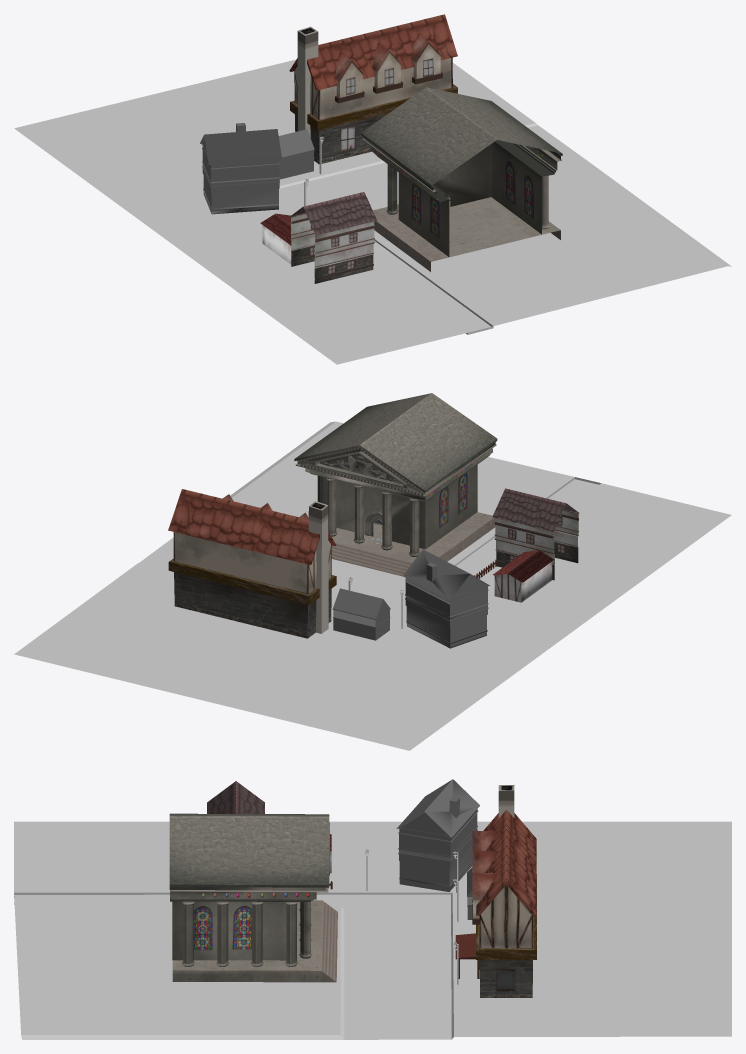
Rendered from Game Battle Background02.FBX.
3 views of the same model, one above another, from view 1: azimuth 30°, elevation 25°; view 2: azimuth 150°, elevation 25°; view 3: azimuth 270°, elevation 25° (orthographic). The views are drawn at different scales.
Parts seen in each view (by area): view 1: the_town_1:polySurface091, the_town_1:pasted__polySurface185, Box005, Church, the_town_1:pasted__pCube114, House4, House01, Box006, the_town_1:pasted__pCube115, the_town_1:polySurface090; view 2: the_town_1:polySurface091, the_town_1:pasted__polySurface185, Box005, Church, the_town_1:pasted__pCube114, House4, the_town_1:pasted__pCube115, the_town_1:polySurface090, Box006; view 3: the_town_1:polySurface091, the_town_1:pasted__polySurface185, Box005, Church, the_town_1:pasted__pCube114, House01, House4, Box006.
Boxes of the visible parts, left/top/right/bottom form: the_town_1:polySurface091: left=14, top=59, right=731, bottom=364; the_town_1:pasted__polySurface185: left=361, top=87, right=562, bottom=256; Box005: left=289, top=14, right=457, bottom=164; Church: left=364, top=138, right=560, bottom=271; the_town_1:pasted__pCube114: left=200, top=123, right=281, bottom=214; House4: left=290, top=192, right=376, bottom=283; House01: left=334, top=33, right=442, bottom=103; Box006: left=297, top=26, right=318, bottom=137; the_town_1:pasted__pCube115: left=278, top=129, right=314, bottom=179; the_town_1:polySurface090: left=260, top=213, right=291, bottom=264; the_town_1:polySurface091: left=14, top=421, right=731, bottom=750; the_town_1:pasted__polySurface185: left=294, top=393, right=497, bottom=549; Box005: left=168, top=489, right=336, bottom=638; Church: left=297, top=447, right=495, bottom=576; the_town_1:pasted__pCube114: left=403, top=549, right=490, bottom=648; House4: left=474, top=488, right=579, bottom=580; the_town_1:pasted__pCube115: left=332, top=588, right=390, bottom=640; the_town_1:polySurface090: left=493, top=550, right=553, bottom=602; Box006: left=308, top=501, right=328, bottom=633; the_town_1:polySurface091: left=14, top=821, right=731, bottom=1039; the_town_1:pasted__polySurface185: left=169, top=813, right=329, bottom=960; Box005: left=455, top=810, right=536, bottom=997; Church: left=172, top=887, right=337, bottom=982; the_town_1:pasted__pCube114: left=396, top=779, right=479, bottom=891; House01: left=472, top=830, right=498, bottom=924; House4: left=207, top=781, right=332, bottom=889; Box006: left=498, top=785, right=514, bottom=818.
Bounding box in the file's own units: 5136 × 7205 × 1567.
